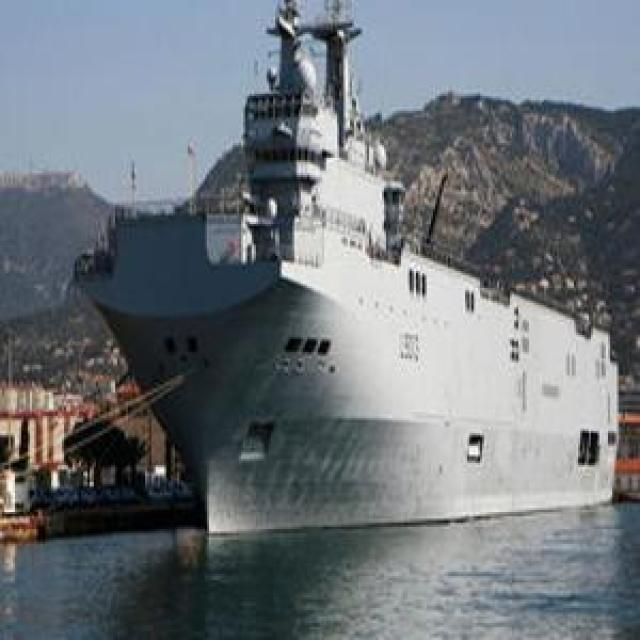navalvessels: (99, 59, 629, 532)
